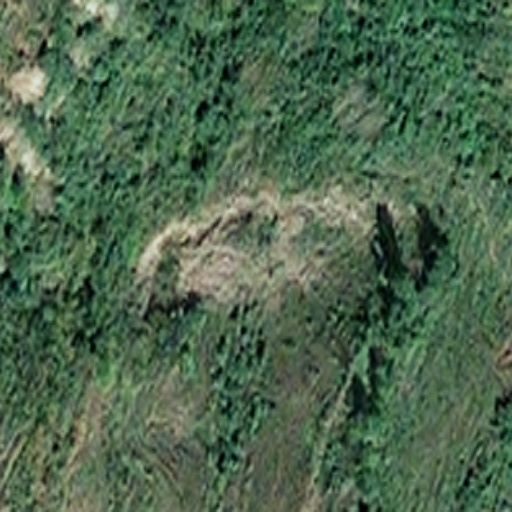landslide: (141, 179, 381, 300)
